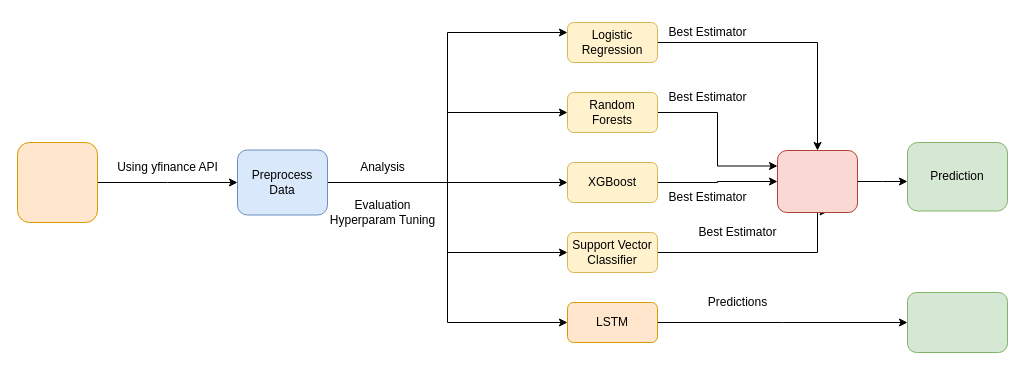
Image size: 1025x370. Some labels were removed from this diagram. Each missing label, with the centre of its shape:
"Ensemle" goes at (x=817, y=181).
"S&P 500 Stocks" goes at (x=57, y=182).
"Stand Alone Predictions" goes at (x=957, y=322).
